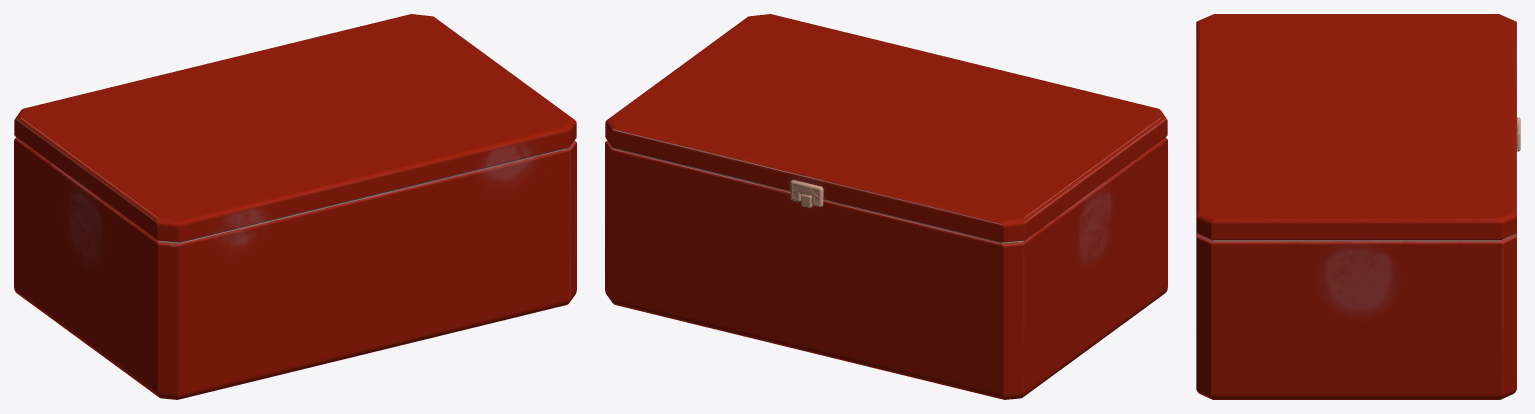
File: crago 1 fix.fbx
3 renders of one model, left to right at view 1: azimuth 30°, elevation 25°; view 2: azimuth 150°, elevation 25°; view 3: azimuth 270°, elevation 25°, orthographic.
Parts seen in each view (by area): view 1: crate's; view 2: crate's; view 3: crate's.
Part boxes in pixels (x1=…): crate's: x1=14, y1=14, x2=576, y2=399; crate's: x1=605, y1=14, x2=1167, y2=399; crate's: x1=1196, y1=14, x2=1520, y2=399.
Bounding box in the file's own units: 157 × 64.36 × 104.
